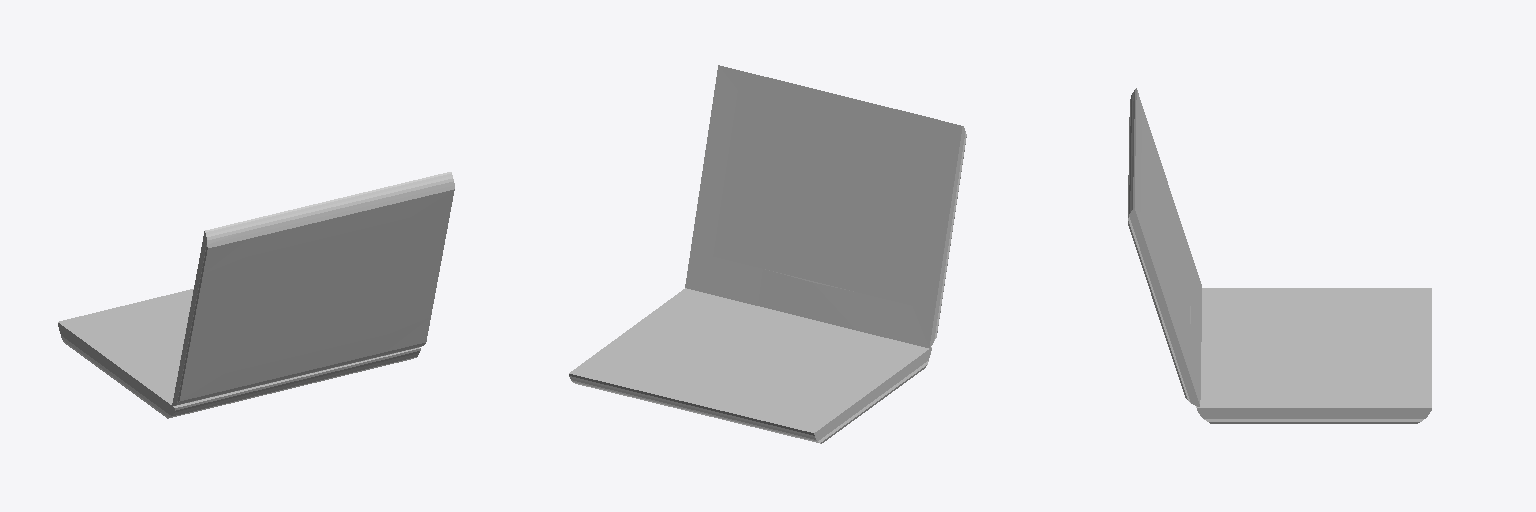
Rendered from Laptop.obj.
The picture shows the model from 3 angles: view 1: azimuth 30°, elevation 25°; view 2: azimuth 150°, elevation 25°; view 3: azimuth 270°, elevation 25°; orthographic projection.
Parts seen in each view (by area): view 1: Sześcian_1, Sześcian; view 2: Sześcian_1, Sześcian; view 3: Sześcian, Sześcian_1.
Boxes of the visible parts, box(x1,y1,x2,y2) form: Sześcian_1: box(172, 172, 454, 405); Sześcian: box(58, 289, 420, 418); Sześcian_1: box(685, 65, 966, 348); Sześcian: box(569, 288, 931, 443); Sześcian: box(1196, 288, 1431, 423); Sześcian_1: box(1128, 88, 1201, 406).
Bounding box in the file's own units: 393 × 327 × 418.